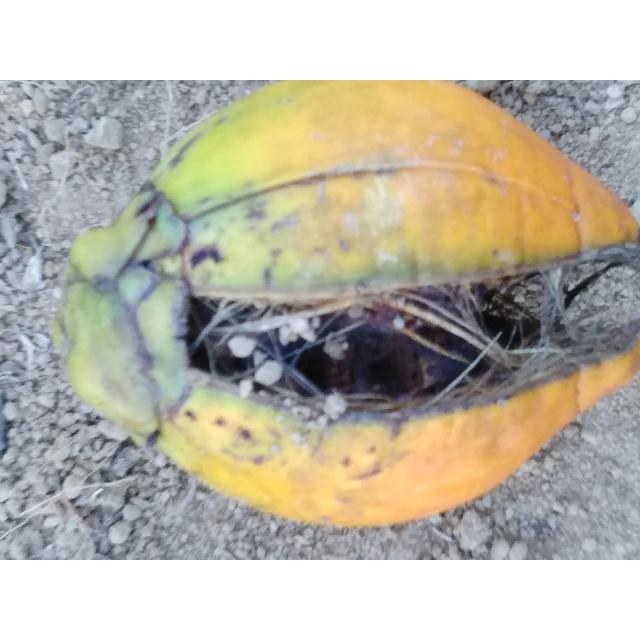damaged: (48, 80, 640, 534)
